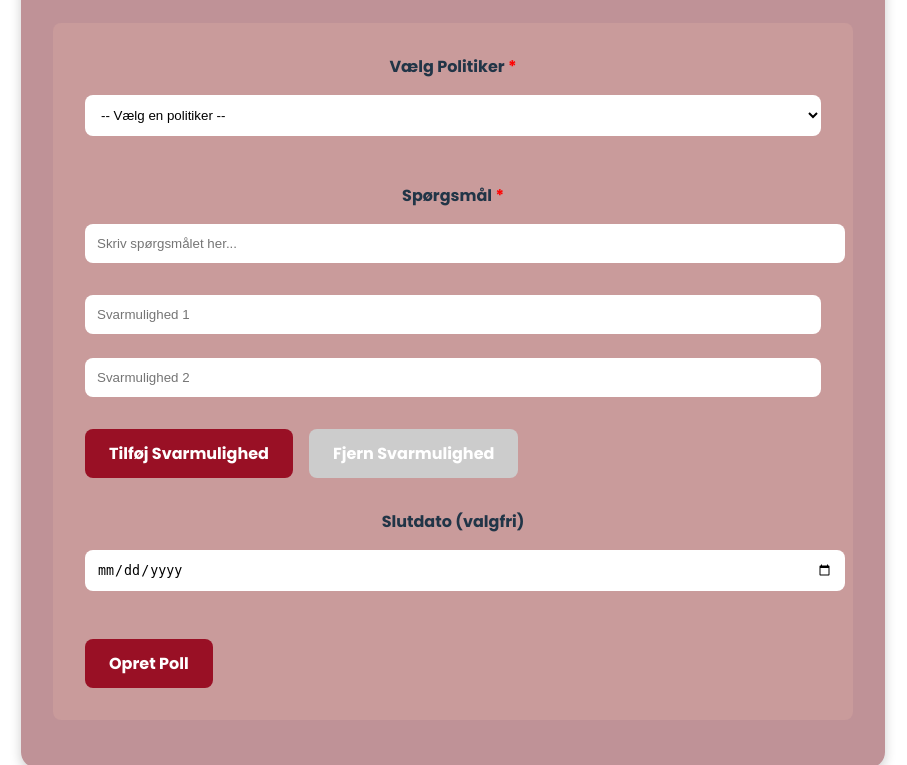
Test: AddPolls › adds and removes options
This screenshot has width=907, height=765.
(page scrolled)
Click the button "Tilføj Svarmulighed".
click(189, 453)  # box [85,429,293,478]
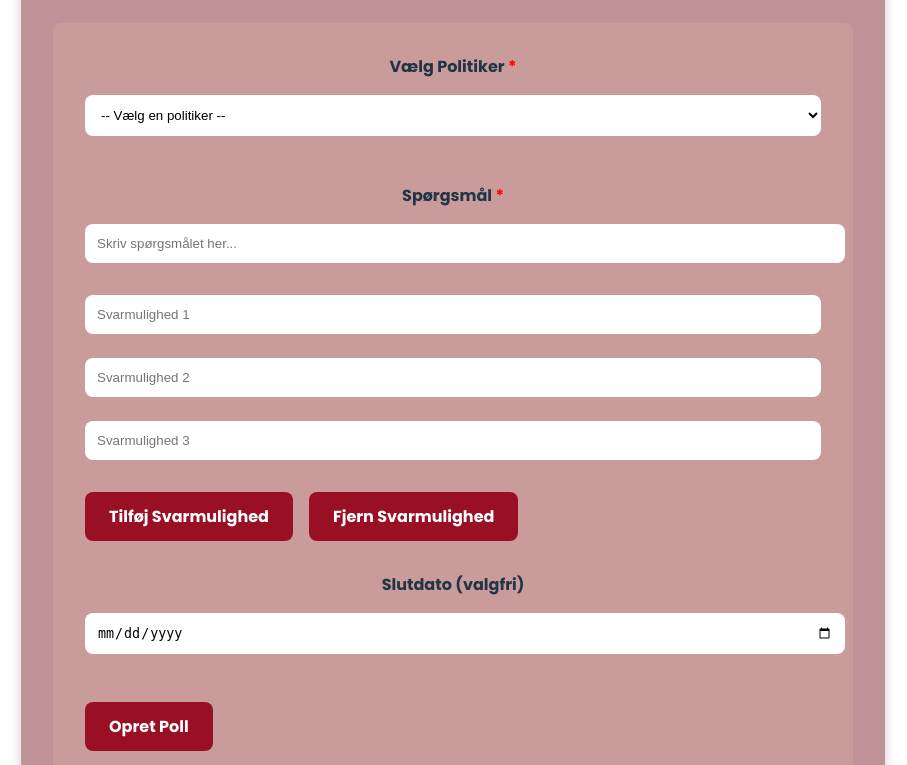
Expected: the field with placeholder "Svarmulighed 3" is shown, [85,421,821,460]
Click the button "Tilføj Svarmulighed".
click(189, 516)  # box [85,492,293,541]
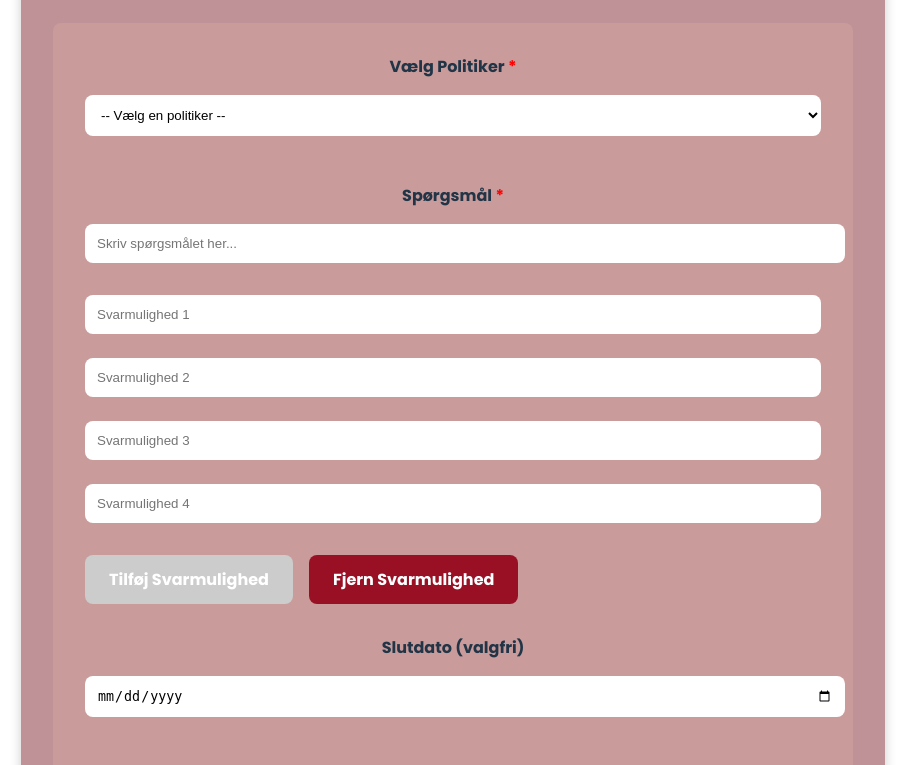
Expected: the field with placeholder "Svarmulighed 4" is shown, [85,484,821,523]
Expected: the button "Tilføj Svarmulighed" is disabled, [85,555,293,604]
Click the button "Fjern Svarmulighed".
click(414, 579)  # box [309,555,518,604]
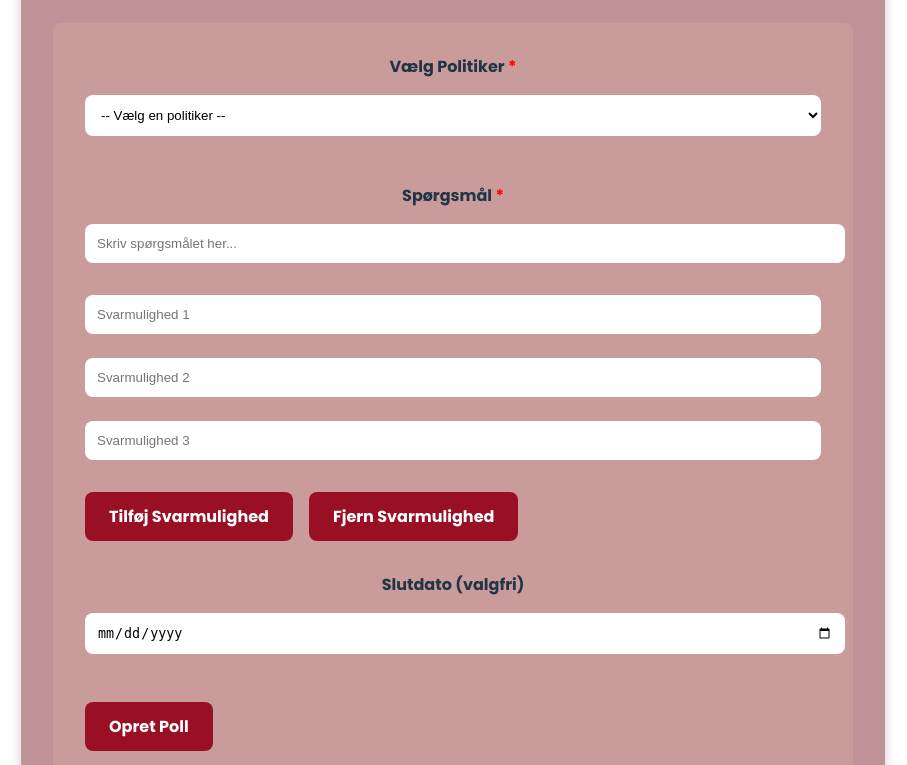
Expected: the field with placeholder "Svarmulighed 4" is not shown
Click the button "Fjern Svarmulighed".
click(414, 516)  # box [309,492,518,541]
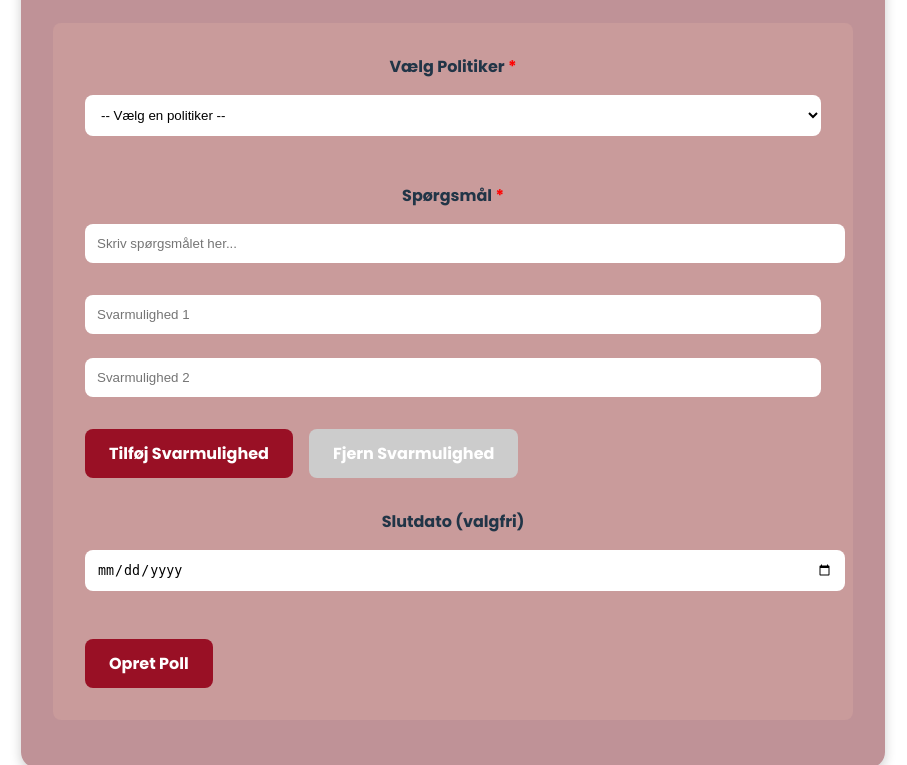
Expected: the field with placeholder "Svarmulighed 3" is not shown
Expected: the button "Fjern Svarmulighed" is disabled, [309,429,518,478]
